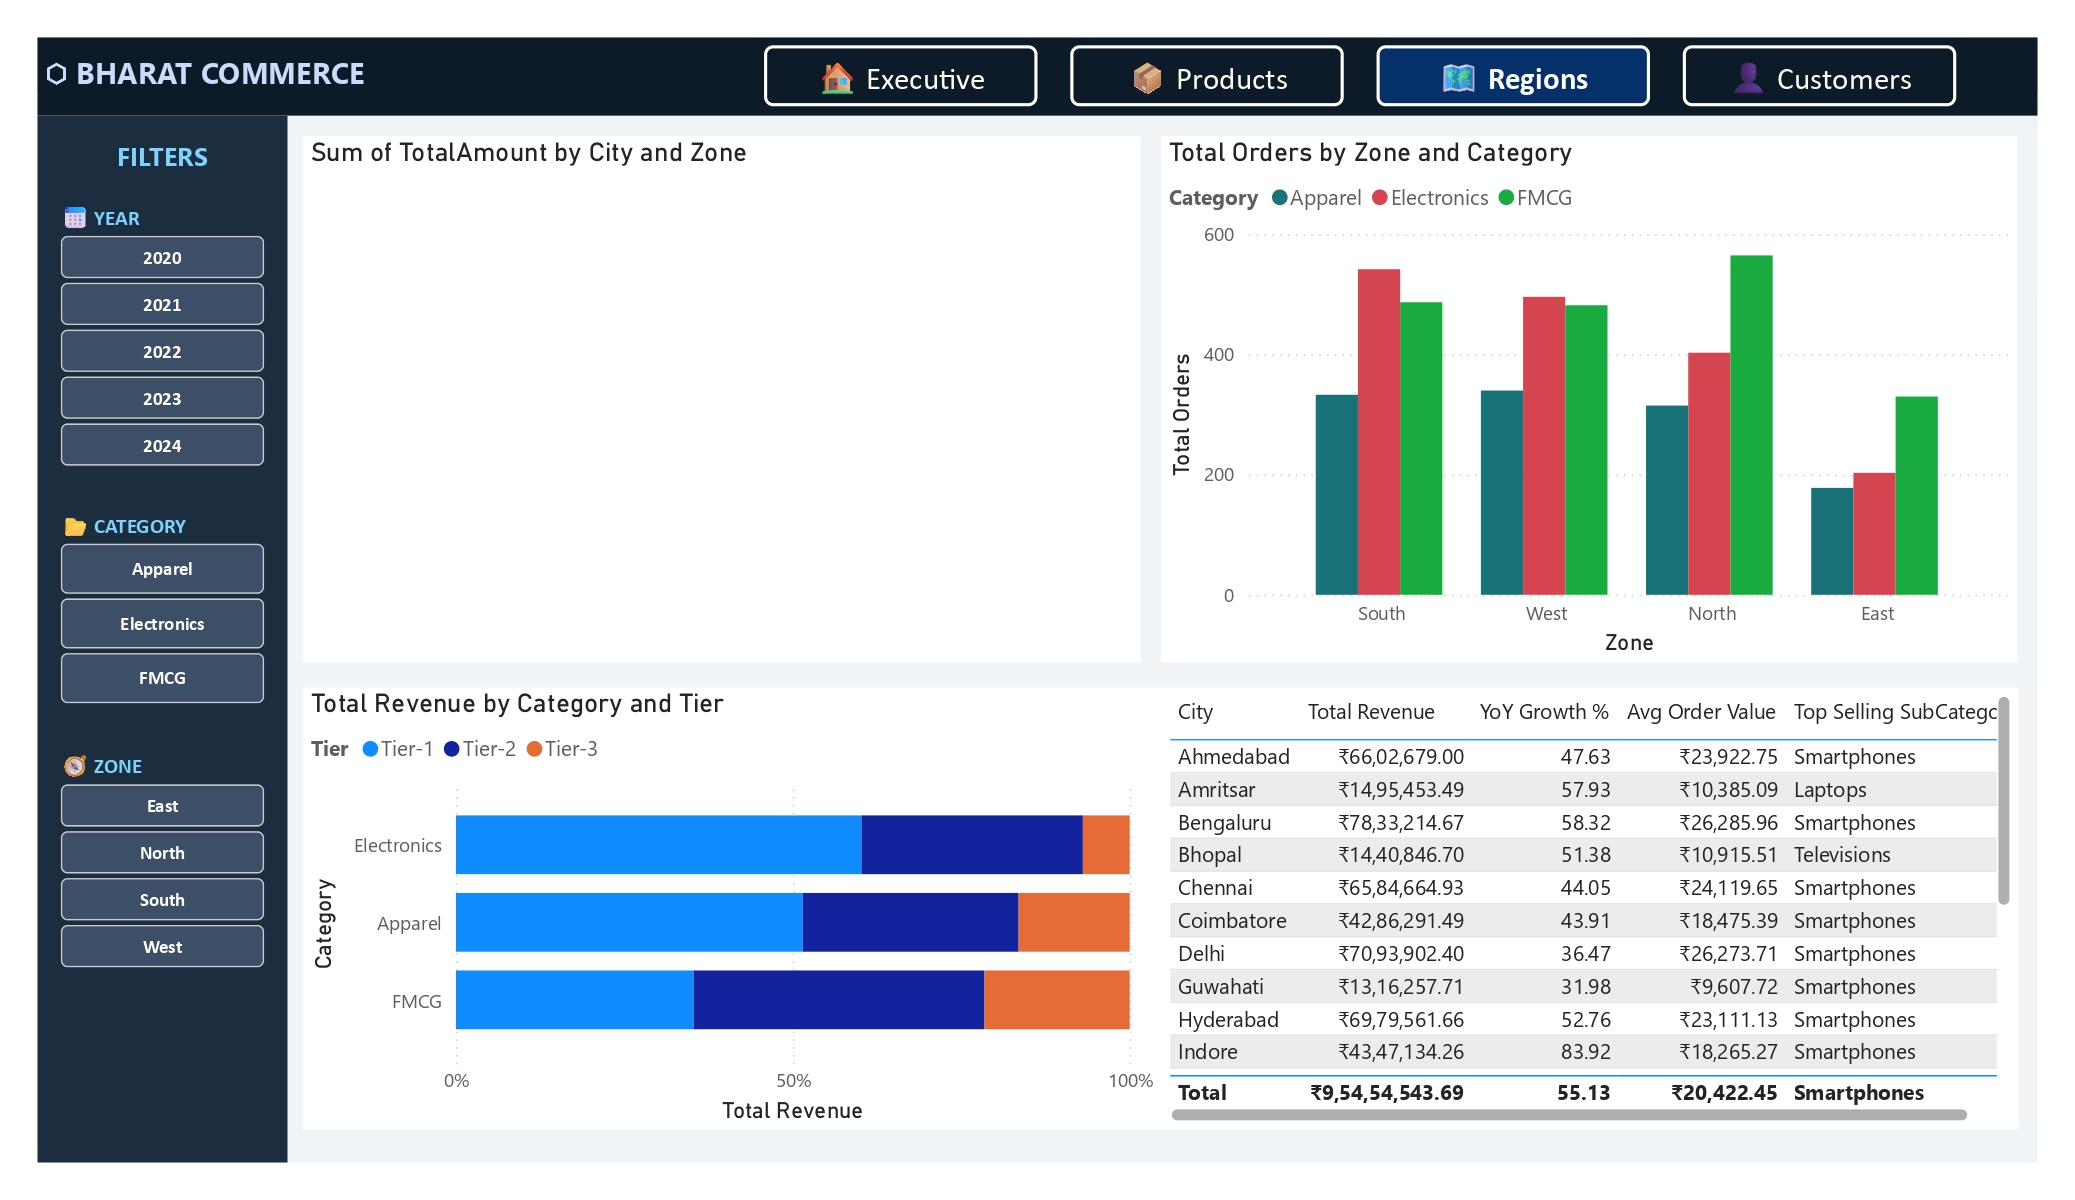

This screenshot's page, from the dashboard's own definition file:
{"tool":"powerbi","page":{"name":"🗺️ Regions","canvas":[1280,720],"ordinal":2},"visuals":[{"type":"shape","box":[0,0,1280.3,50],"z":0},{"type":"textbox","box":[0,5.5,242.7,40.9],"z":1000},{"type":"shape","box":[0,50,160,670],"z":2000},{"type":"esriVisual","fields":{"Location":["Regions.City"],"Size":["Sum(SalesTransactions.TotalAmount)"],"Color":["Regions.Zone"]},"box":[170,62.9,535.7,337.1],"z":3000},{"type":"clusteredColumnChart","fields":{"Category":["Regions.Zone"],"Y":["Measures Table.Total Orders"],"Series":["Products.Category"]},"box":[718.6,62.9,548.6,337.1],"z":4000},{"type":"hundredPercentStackedBarChart","fields":{"Category":["Products.Category"],"Y":["Measures Table.Total Revenue"],"Series":["Regions.Tier"]},"box":[170,415.7,548.6,282.9],"z":5000},{"type":"tableEx","fields":{"Values":["Regions.City","Measures Table.Total Revenue","Measures Table.YoY Growth %","Measures Table.Avg Order Value","Measures Table.Top Selling SubCategory"]},"box":[719,416,549,283],"z":6000},{"type":"textbox","box":[10,60,140,33.2],"z":7000},{"type":"advancedSlicerVisual","title":"📅 YEAR","fields":{"Values":["DimDate.Year"]},"box":[10,105.8,140,173.7],"z":8000},{"type":"advancedSlicerVisual","title":"📂 CATEGORY","fields":{"Values":["Products.Category"]},"box":[10,303.1,140,130],"z":9000},{"type":"advancedSlicerVisual","title":"🧭 ZONE","fields":{"Values":["Regions.Zone"]},"box":[10,456.7,140,145.6],"z":10000},{"type":"actionButton","box":[1052.5,5,175,38.8],"z":11000},{"type":"actionButton","box":[856.7,5,175,38.8],"z":12000},{"type":"actionButton","box":[660.8,5,175,38.8],"z":13000},{"type":"actionButton","box":[465,5,175,38.8],"z":14000}]}

Visuals, with their boxes on the page's 1280x720 design canvas (x1, y1, x2, y2). These are canvas units, not pixel positions in the 2075x1200 screenshot, which may show the page scaled, cropped or inside an application window:
shape: bbox=[0, 0, 1280, 50]
textbox: bbox=[0, 6, 243, 46]
shape: bbox=[0, 50, 160, 720]
esriVisual - Regions.City x Sum(SalesTransactions.TotalAmount): bbox=[170, 63, 706, 400]
clusteredColumnChart - Regions.Zone x Measures Table.Total Orders: bbox=[719, 63, 1267, 400]
hundredPercentStackedBarChart - Products.Category x Measures Table.Total Revenue: bbox=[170, 416, 719, 699]
tableEx - Regions.City x Measures Table.Total Revenue: bbox=[719, 416, 1268, 699]
textbox: bbox=[10, 60, 150, 93]
"📅 YEAR" advancedSlicerVisual: bbox=[10, 106, 150, 280]
"📂 CATEGORY" advancedSlicerVisual: bbox=[10, 303, 150, 433]
"🧭 ZONE" advancedSlicerVisual: bbox=[10, 457, 150, 602]
actionButton: bbox=[1052, 5, 1228, 44]
actionButton: bbox=[857, 5, 1032, 44]
actionButton: bbox=[661, 5, 836, 44]
actionButton: bbox=[465, 5, 640, 44]
